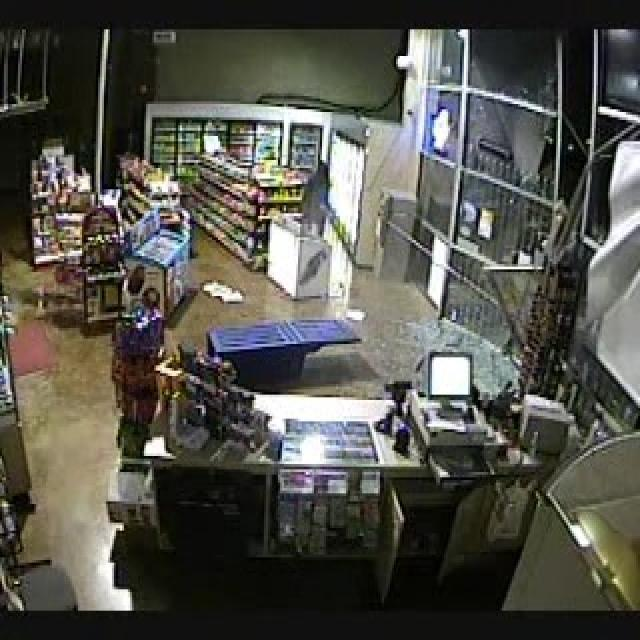burglary: (418, 91, 563, 406)
